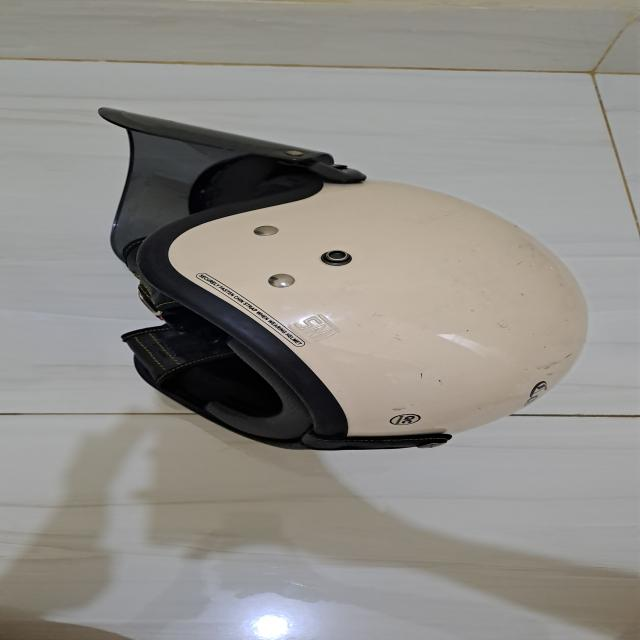Helm: (69, 95, 600, 452)
